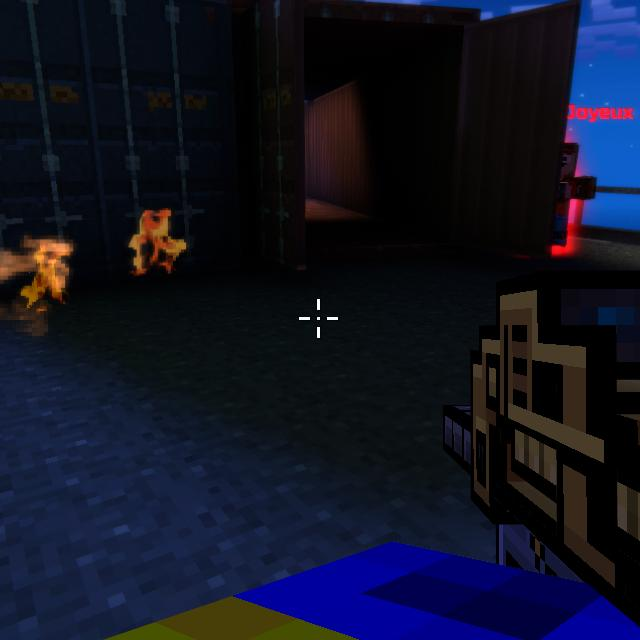Enemy: (552, 142, 597, 247)
